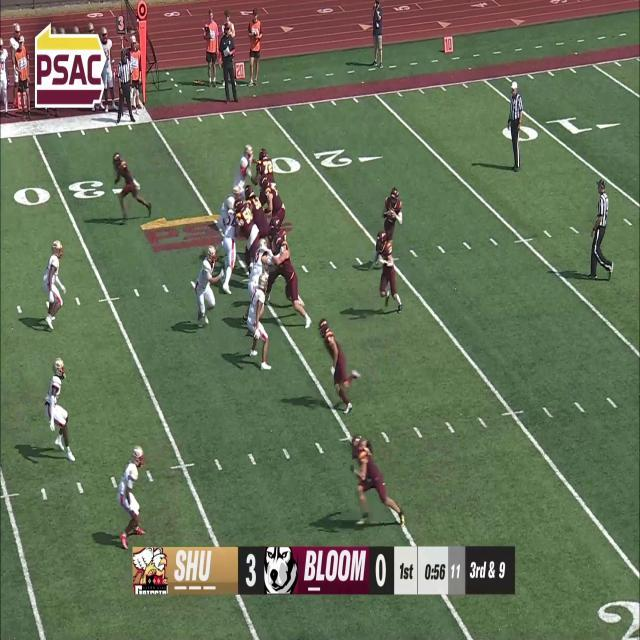football: (387, 207, 395, 224)
